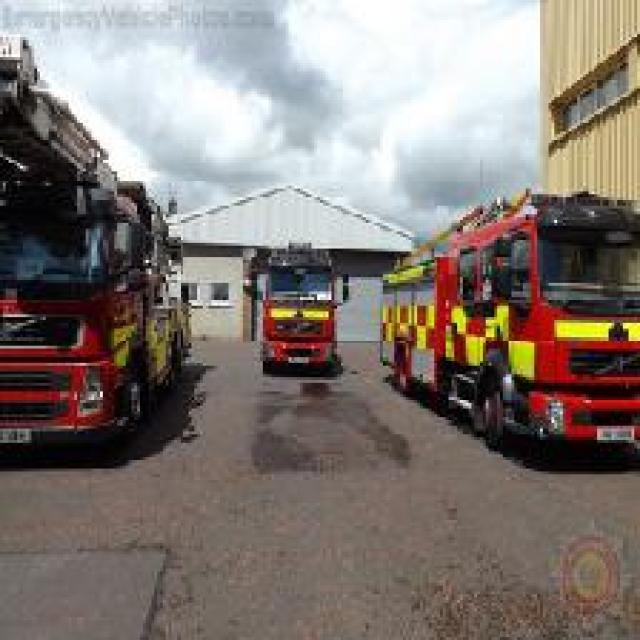emergency: (0, 39, 198, 454), (376, 187, 638, 465), (250, 238, 356, 378)
